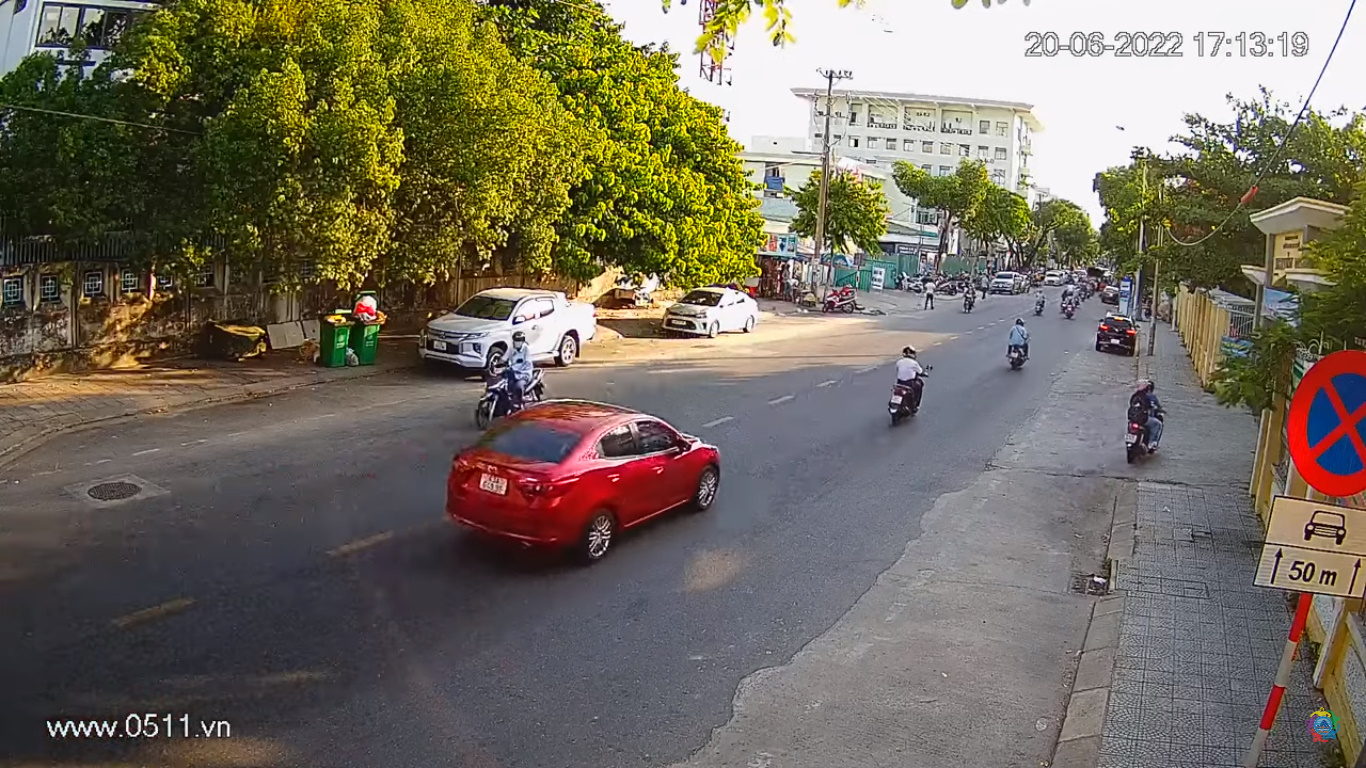car: (449, 405, 725, 571)
